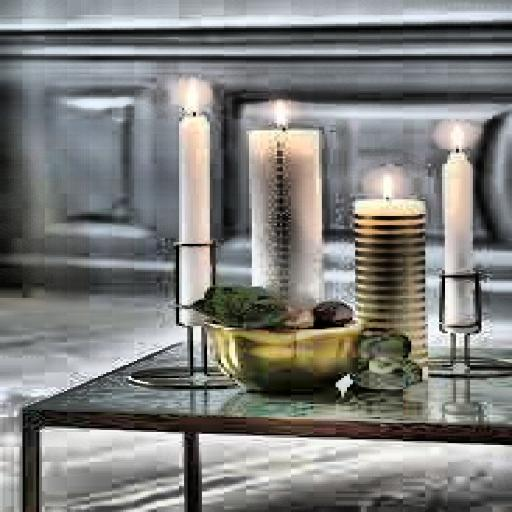fire: (436, 119, 484, 153), (174, 74, 207, 121), (258, 95, 296, 125), (378, 171, 400, 201)
